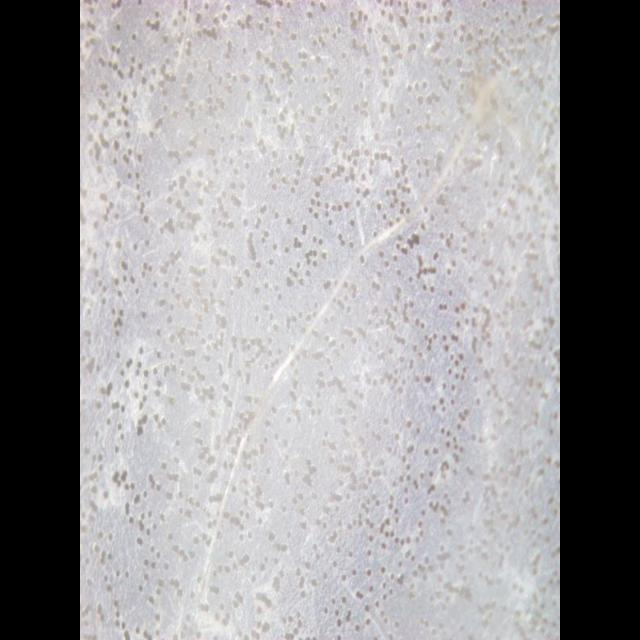Fibre: (193, 69, 507, 611)
